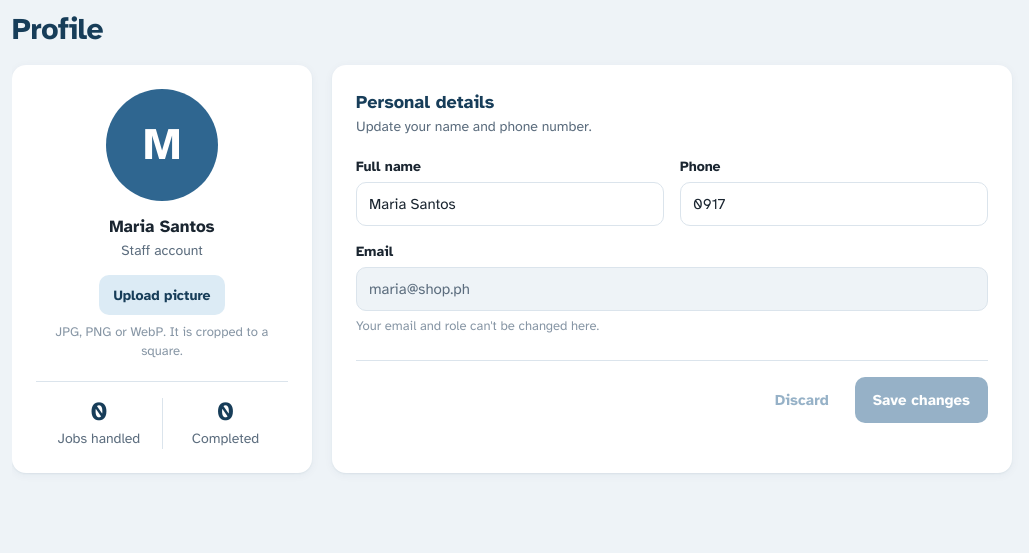
Test: Profile page › shows an error and a working Retry when saving fails
The image size is (1029, 553).
Type "x" into the field labelled "Full name".
click(510, 204); type("x")  # box [356,182,664,226]
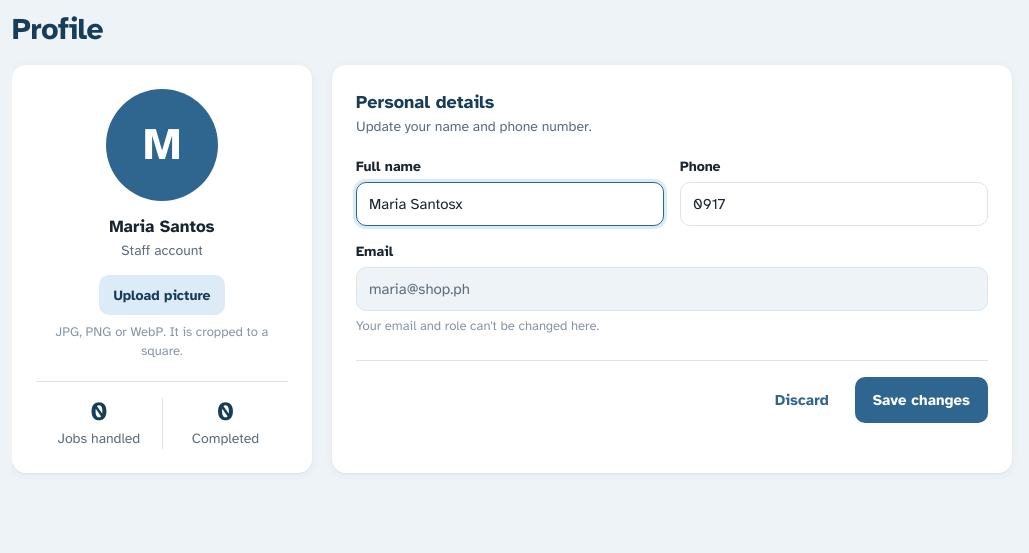
Click the button "Save changes".
click(921, 400)  # box [855,377,988,423]
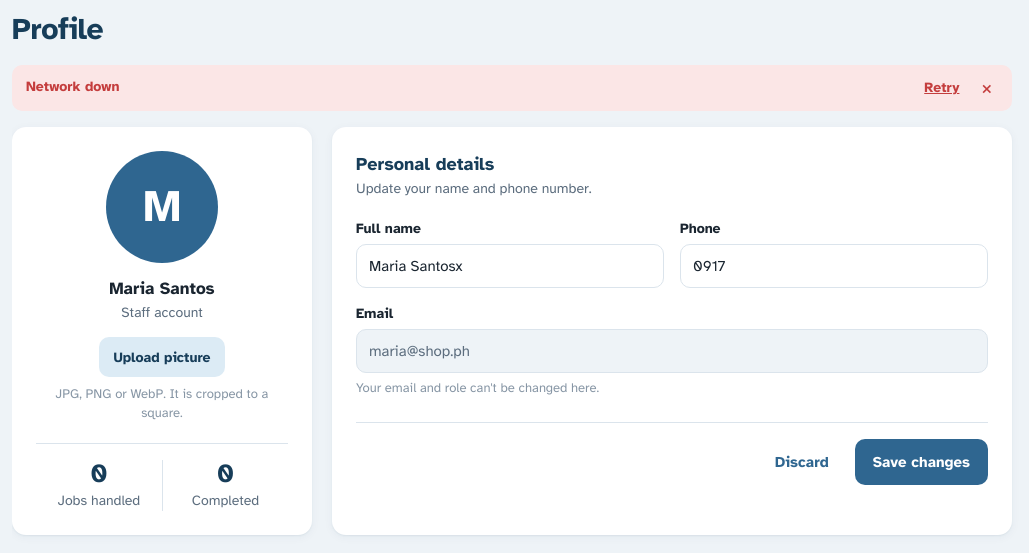
Expected: the text "Network down" is shown, [26,78,120,95]
Click the button "Retry".
click(942, 88)  # box [918,78,965,97]
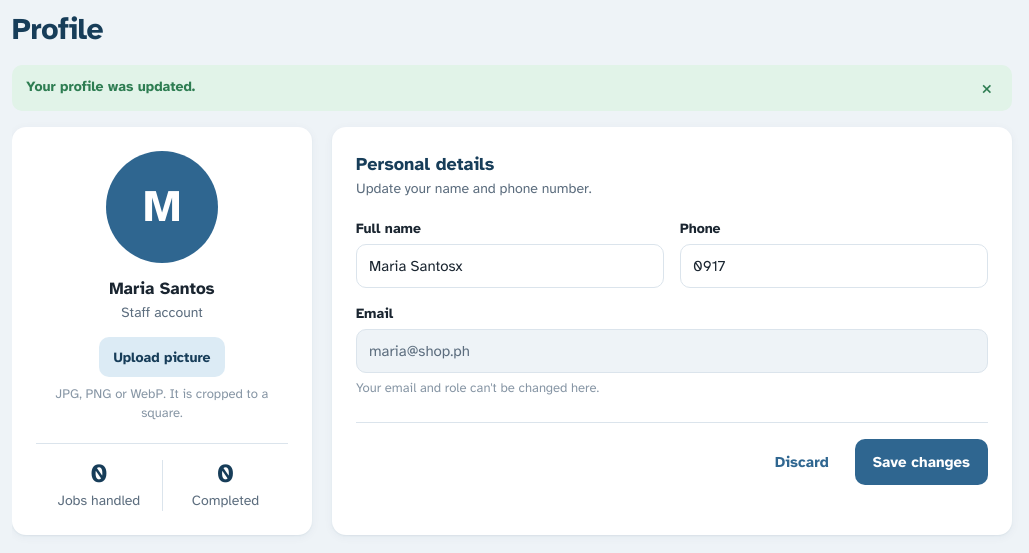
Expected: the text "Your profile was updated." is shown, [26,78,195,95]
